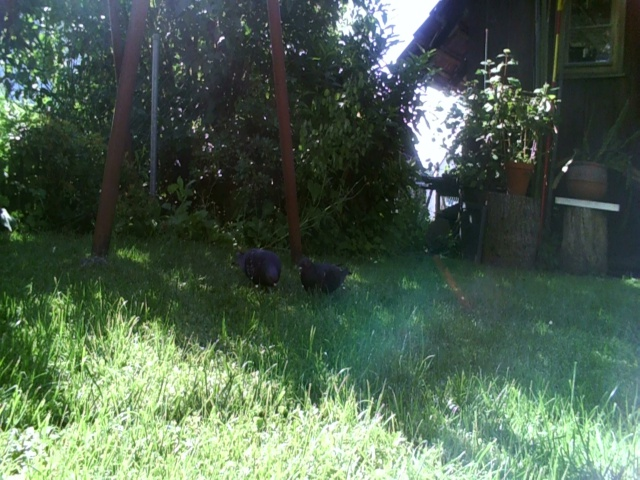Pigeon: (228, 241, 286, 296), (295, 255, 353, 297)
